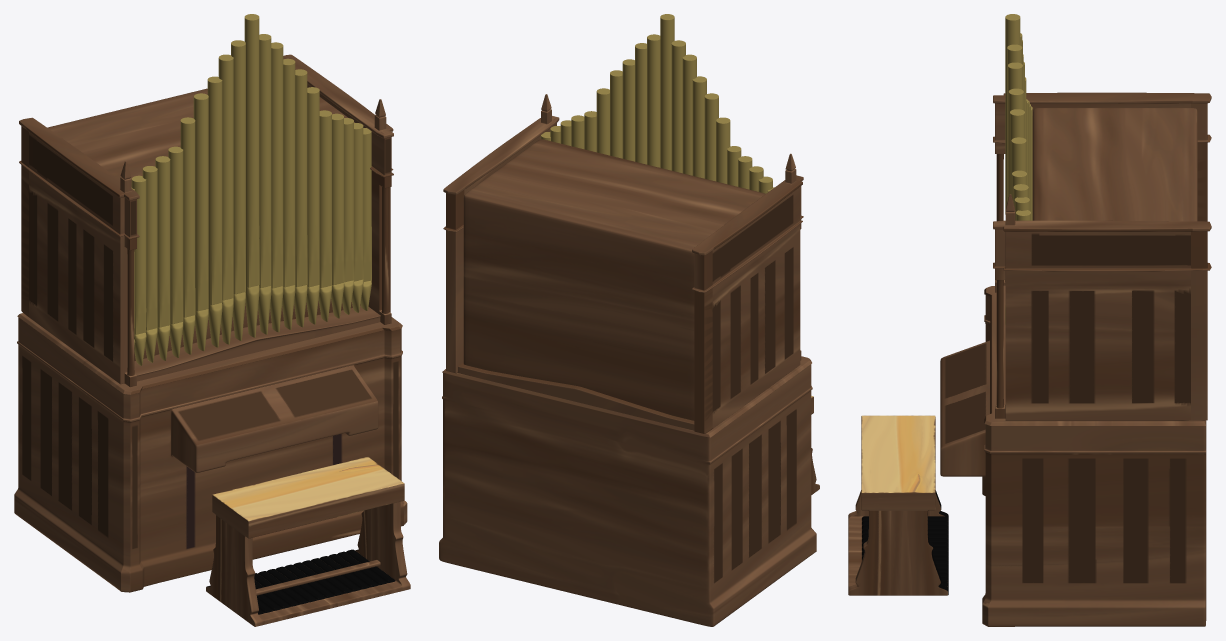
File: Organ_To_Unity.fbx
3 views of the same model, side by side, from view 1: azimuth 30°, elevation 25°; view 2: azimuth 150°, elevation 25°; view 3: azimuth 270°, elevation 25° (orthographic). The views are drawn at different scales.
Visible parts, largest first — view 1: Organ_Main, pCube1, Tube_1, Tube_6, Tube_2, Tube_3, Tube_5, Tube_8, Tube_4, Tube_7, Tube_9, Tube_10 (+10 smaller); view 2: Organ_Main, Tube_1, Tube_3, Tube_2, Tube_5, Tube_4, Tube_6, Tube_7, Tube_9, Tube_8, Tube_11, Tube_10; view 3: Organ_Main, pCube1, Tube_1, Tube_5, Tube_11, Tube_9, Tube_7.
Boxes of the visible parts, left/top/right/bottom form: Organ_Main: left=14, top=54, right=407, bottom=592; pCube1: left=206, top=457, right=410, bottom=626; Tube_1: left=244, top=14, right=259, bottom=337; Tube_6: left=207, top=76, right=222, bottom=347; Tube_2: left=231, top=40, right=245, bottom=340; Tube_3: left=258, top=34, right=271, bottom=334; Tube_5: left=270, top=42, right=283, bottom=332; Tube_8: left=193, top=93, right=208, bottom=351; Tube_4: left=218, top=54, right=233, bottom=344; Tube_7: left=282, top=58, right=295, bottom=329; Tube_9: left=294, top=69, right=307, bottom=327; Tube_10: left=180, top=117, right=195, bottom=354; Organ_Main: left=439, top=94, right=816, bottom=626; Tube_1: left=660, top=14, right=674, bottom=170; Tube_3: left=647, top=34, right=660, bottom=167; Tube_2: left=671, top=40, right=685, bottom=173; Tube_5: left=635, top=43, right=646, bottom=164; Tube_4: left=682, top=54, right=696, bottom=175; Tube_6: left=692, top=76, right=706, bottom=178; Tube_7: left=622, top=59, right=634, bottom=161; Tube_9: left=610, top=70, right=622, bottom=158; Tube_8: left=704, top=93, right=718, bottom=181; Tube_11: left=596, top=88, right=609, bottom=155; Tube_10: left=716, top=117, right=730, bottom=183; Organ_Main: left=940, top=92, right=1211, bottom=626; pCube1: left=848, top=415, right=948, bottom=595; Tube_1: left=1005, top=14, right=1020, bottom=324; Tube_5: left=1007, top=62, right=1022, bottom=200; Tube_11: left=1011, top=137, right=1026, bottom=195; Tube_9: left=1010, top=109, right=1024, bottom=194; Tube_7: left=1008, top=88, right=1023, bottom=196.
Size of the model in its own units: 1.5 by 2.66 by 1.62.
Materials: 3 (3 with a texture image).
